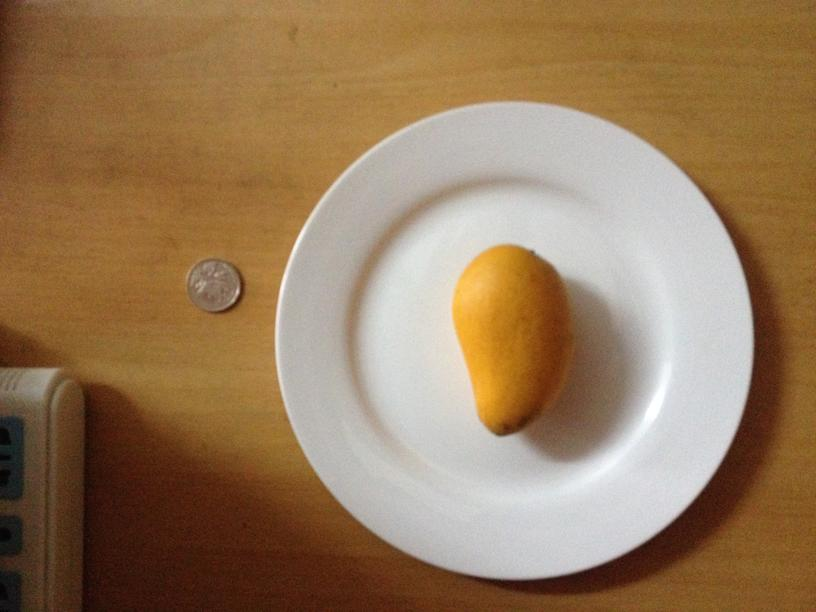coin: (184, 257, 241, 315)
mango: (443, 244, 570, 437)
